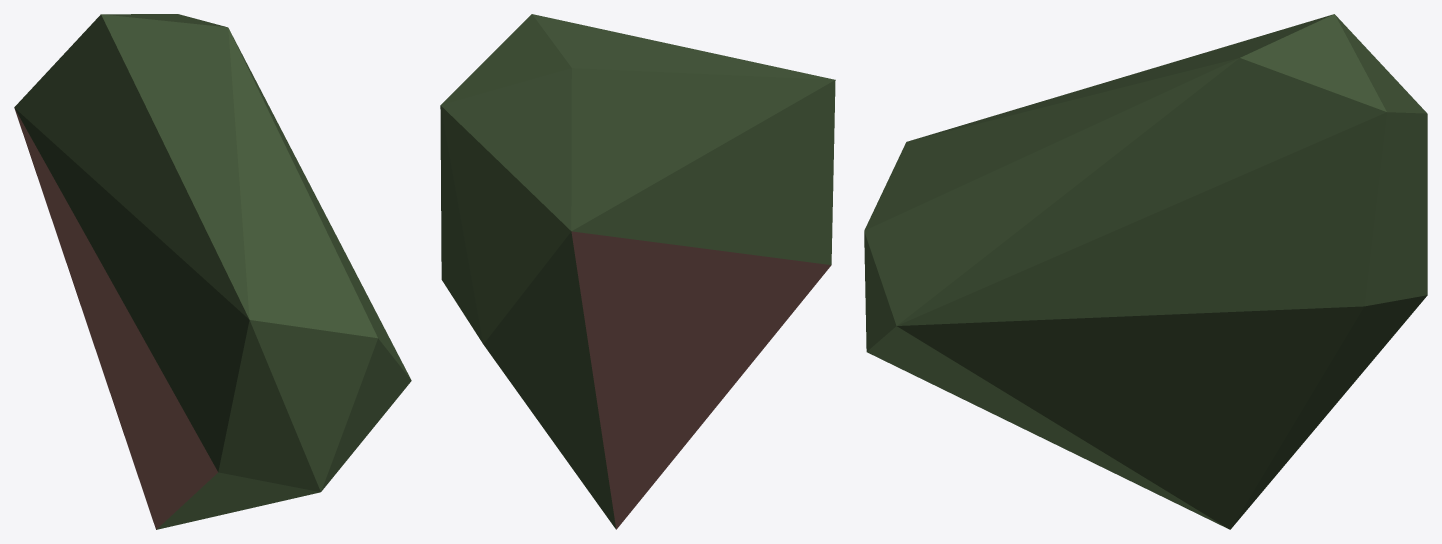
File: Willow_5.lod4.glb
3 views of the same model, side by side, from view 1: azimuth 30°, elevation 25°; view 2: azimuth 150°, elevation 25°; view 3: azimuth 270°, elevation 25° (orthographic). The views are drawn at different scales.
Parts seen in each view (by area): view 1: Willow_5; view 2: Willow_5; view 3: Willow_5.
Boxes of the visible parts, x1,y1,x2,y2 form: Willow_5: (14, 14, 411, 529); Willow_5: (440, 14, 835, 529); Willow_5: (864, 14, 1427, 529).
Bounding box in the file's own units: 0.9536 × 2.47 × 2.46.
